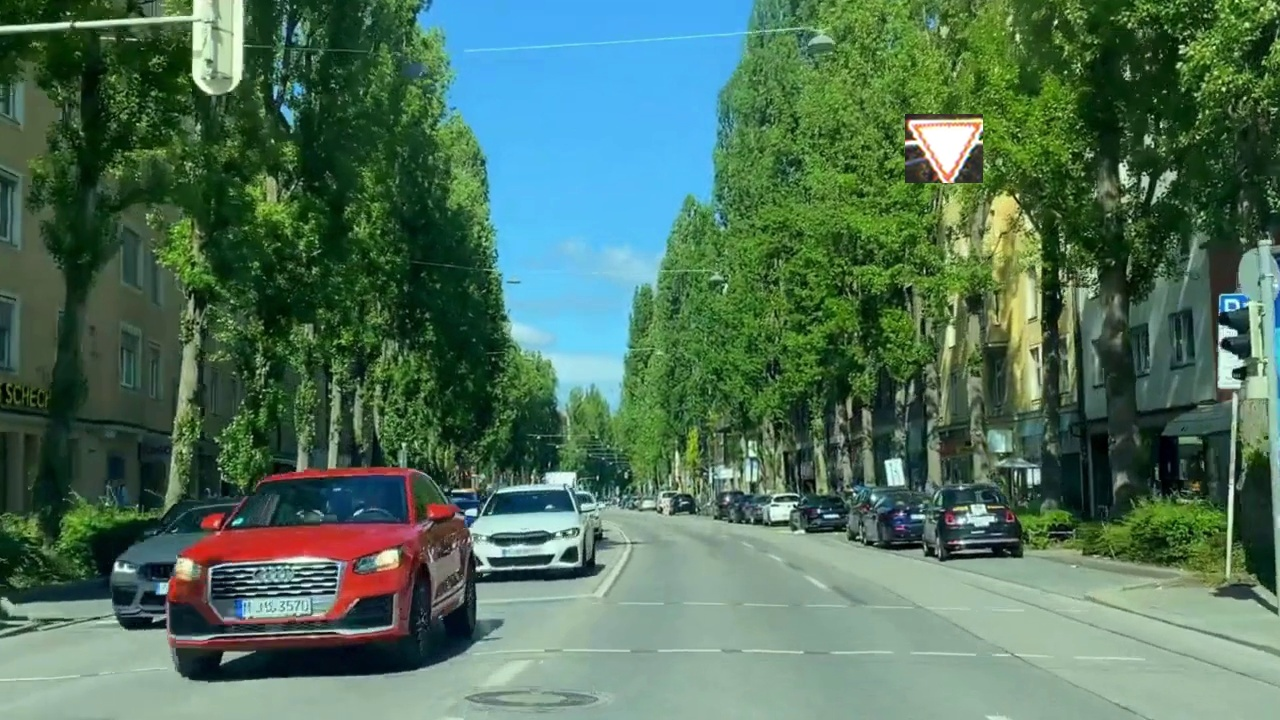Yield: (905, 114, 983, 183)
